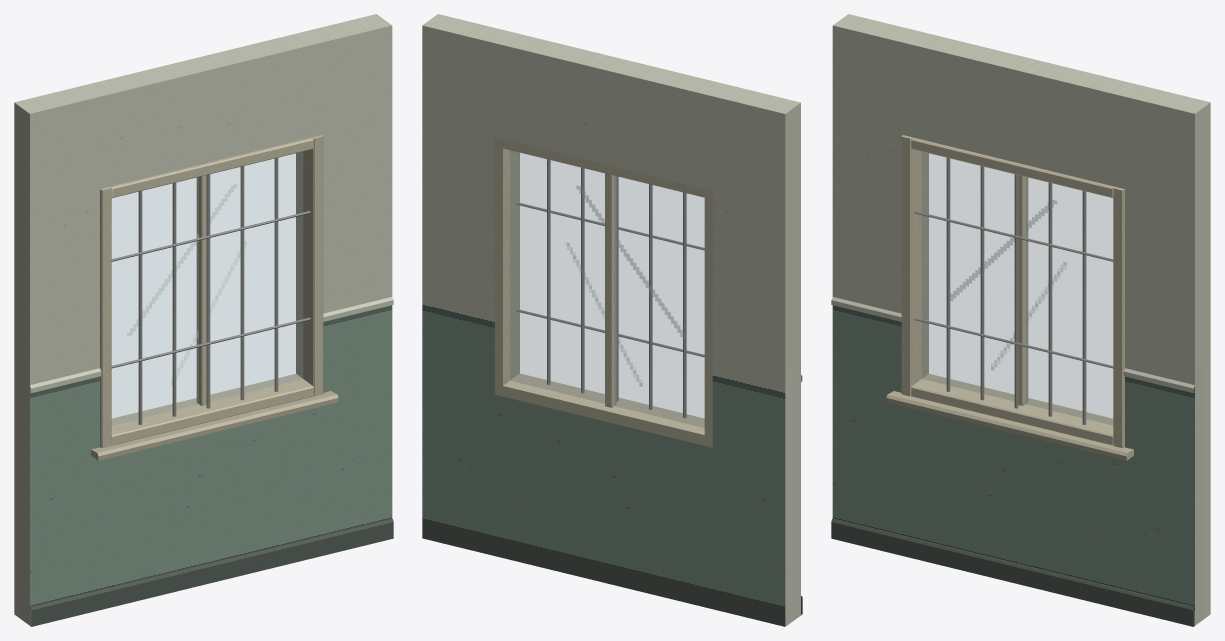
File: wall_window_2a.glb
3 renders of one model, left to right at view 1: azimuth 30°, elevation 25°; view 2: azimuth 150°, elevation 25°; view 3: azimuth 330°, elevation 25°, orthographic.
Visible parts, largest first — view 1: wall_body, window_glass, frame_right, frame_bottom, frame_left, sill, frame_top, mullion, bar_v3, bar_v2, bar_v0, bar_v1 (+3 smaller); view 2: wall_body, window_glass, frame_right, frame_bottom, mullion, frame_left, frame_top, bar_v0, bar_v1, bar_v3, bar_v4, bar_v2 (+2 smaller); view 3: wall_body, window_glass, frame_left, frame_bottom, frame_right, sill, frame_top, mullion, bar_v1, bar_v2, bar_v4, bar_v0 (+3 smaller).
Boxes of the visible parts, x1,y1,x2,y2 form: wall_body: (14, 14, 393, 626); window_glass: (112, 152, 302, 424); frame_right: (296, 135, 323, 396); frame_bottom: (111, 374, 313, 445); frame_left: (100, 187, 111, 447); sill: (91, 391, 338, 460); frame_top: (110, 137, 313, 197); mullion: (196, 175, 206, 405); bar_v3: (240, 166, 244, 400); bar_v2: (206, 174, 210, 408); bar_v0: (138, 191, 142, 424); bar_v1: (172, 182, 176, 416); wall_body: (422, 14, 802, 626); window_glass: (510, 150, 704, 427); frame_right: (492, 136, 519, 396); frame_bottom: (503, 373, 704, 445); mullion: (605, 173, 616, 407); frame_left: (704, 188, 714, 447); frame_top: (503, 139, 704, 197); bar_v0: (683, 192, 686, 418); bar_v1: (649, 184, 652, 409); bar_v3: (581, 167, 584, 393); bar_v4: (547, 159, 550, 384); bar_v2: (616, 176, 618, 401); wall_body: (831, 14, 1210, 626); window_glass: (922, 152, 1112, 424); frame_left: (901, 135, 928, 396); frame_bottom: (911, 374, 1113, 445); frame_right: (1113, 187, 1124, 447); sill: (886, 391, 1133, 460); frame_top: (911, 137, 1114, 197); mullion: (1018, 175, 1028, 405); bar_v1: (980, 166, 984, 400); bar_v2: (1014, 174, 1018, 408); bar_v4: (1082, 191, 1086, 424); bar_v0: (946, 158, 950, 391).
Bounding box in the file's own units: 2 × 2.7 × 0.2219.
Materials: 2 (2 with a texture image).
